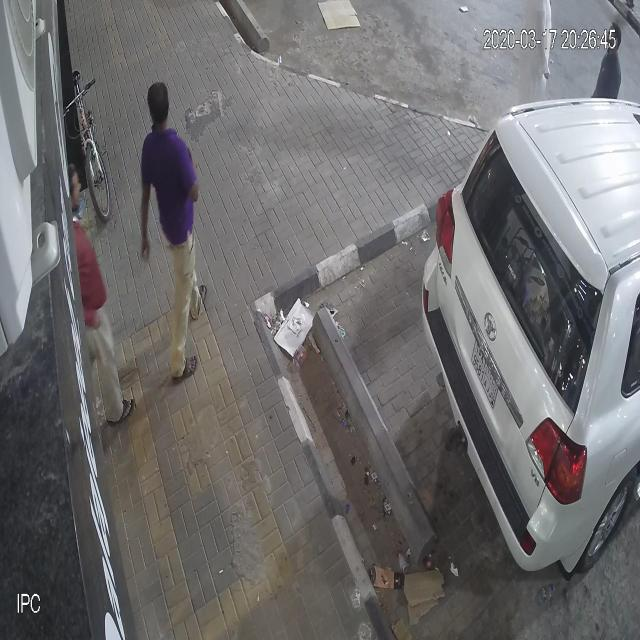license_plate: (471, 338, 498, 408)
